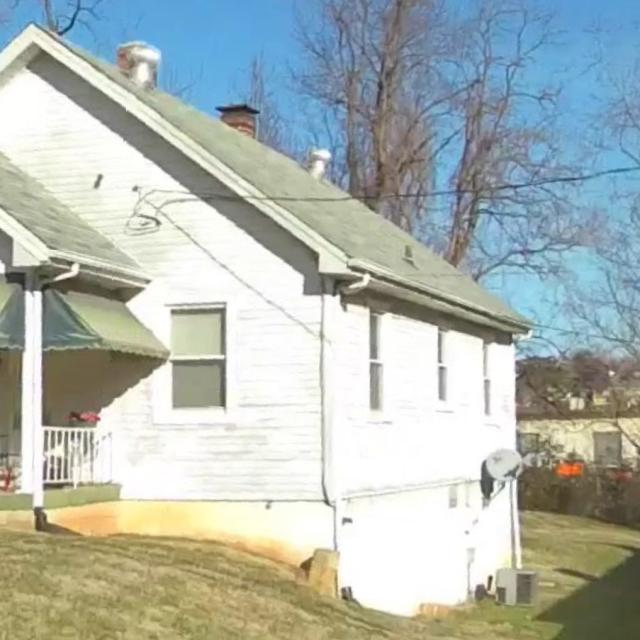House: (0, 22, 536, 619), (516, 409, 640, 478)
